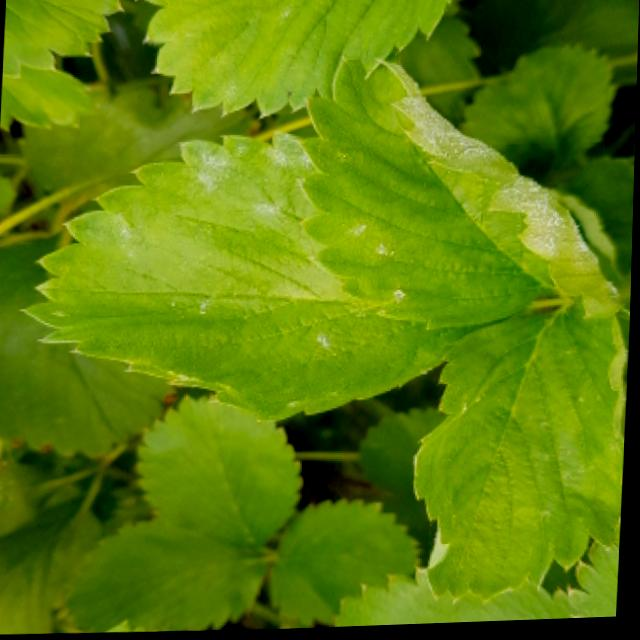Powdery Mildew Leaf: (20, 133, 500, 423), (303, 58, 629, 330), (416, 304, 630, 609)
